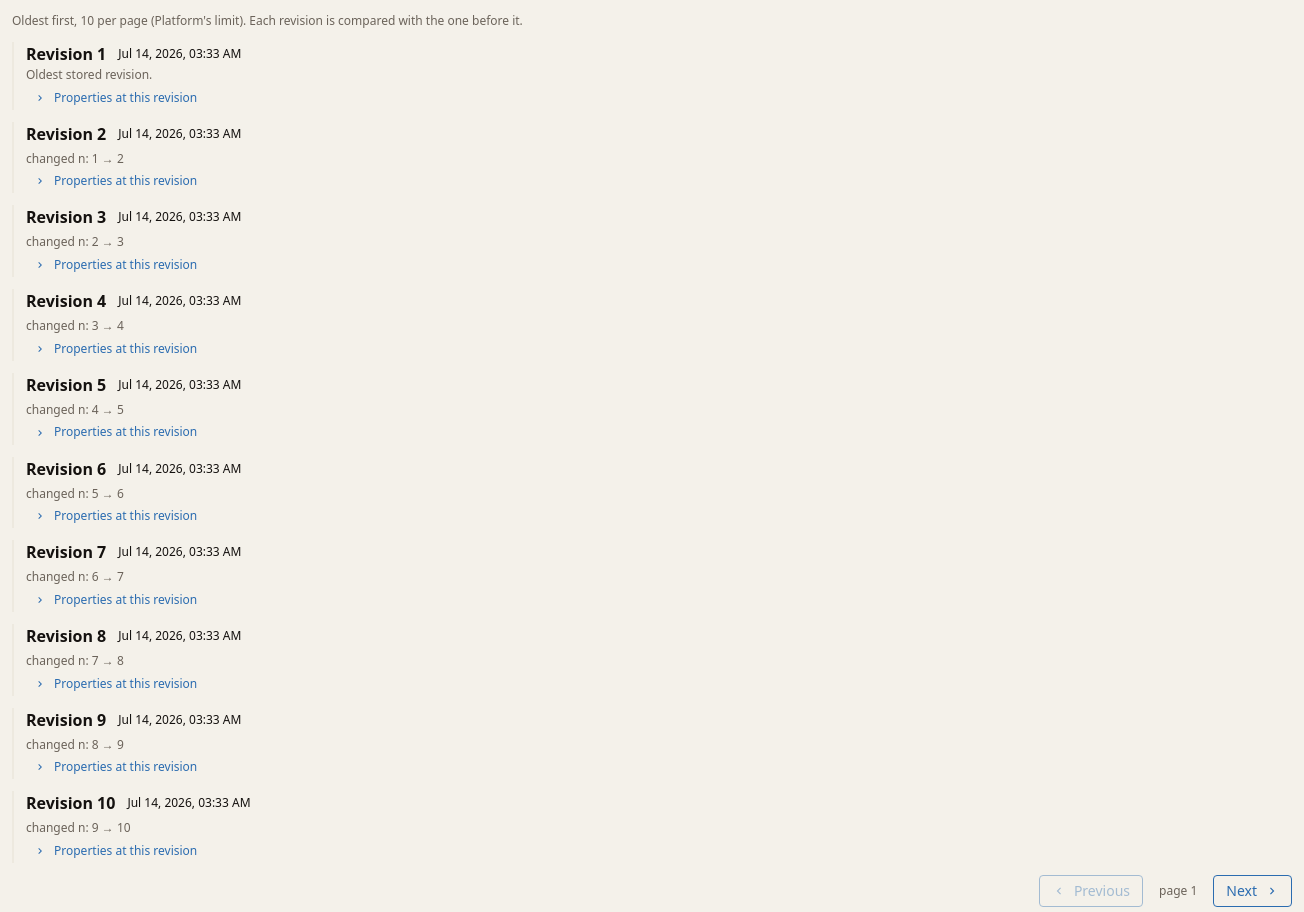
Test: DocumentHistorySection › pages by block time within Platform’s 10-revision limit and diffs across the page boundary
Expected: the text "Revision 10" is shown, [26,792,115,816]
Expected: the text "latest" is not shown
Click the button "Next" at (1253, 891), box [1213,875,1292,907]
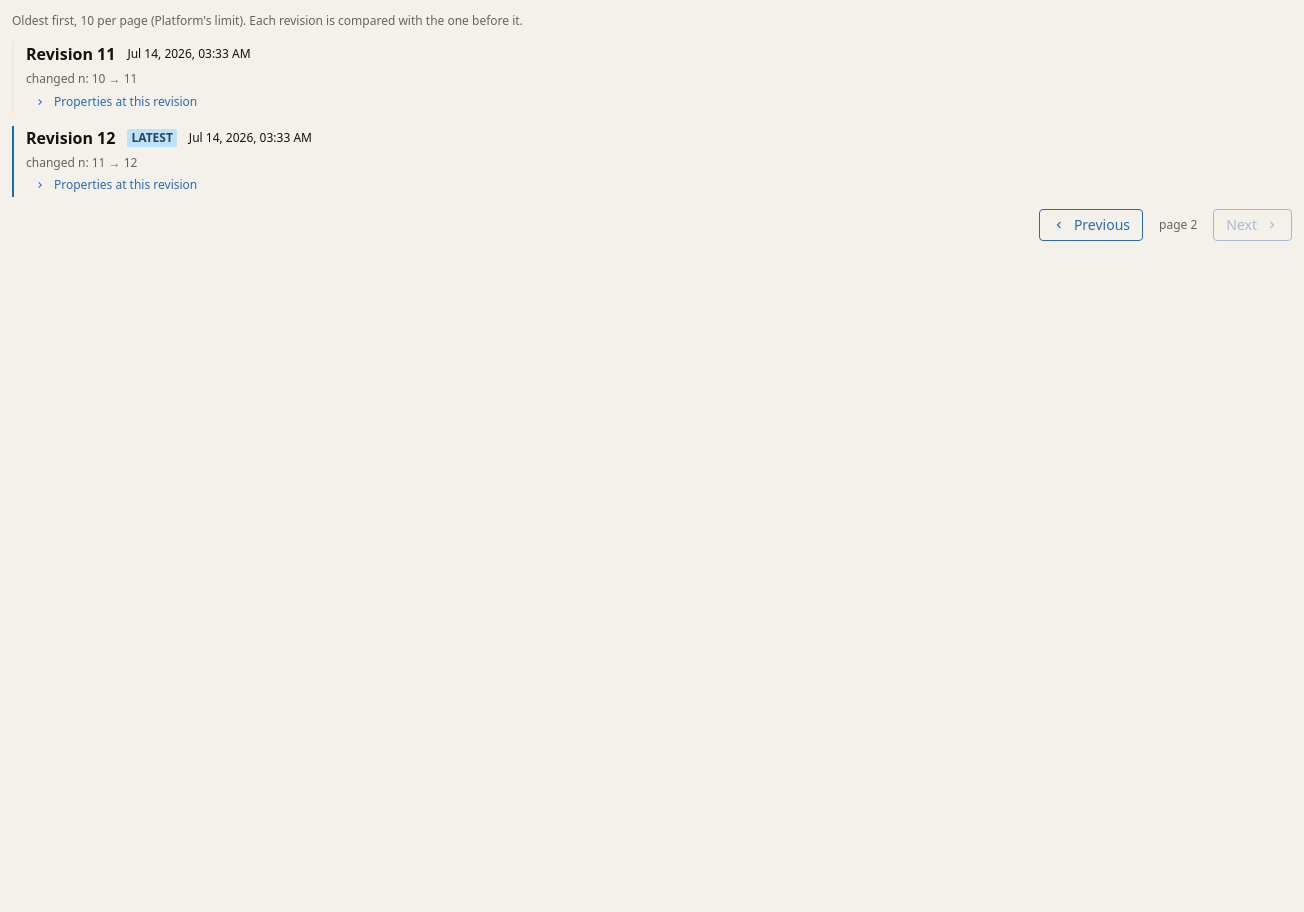
Now the text "Revision 12" is shown, box [26,126,115,150]
Now the text "latest" is shown, box [127,129,177,147]
Now the text "Oldest stored revision." is gone
